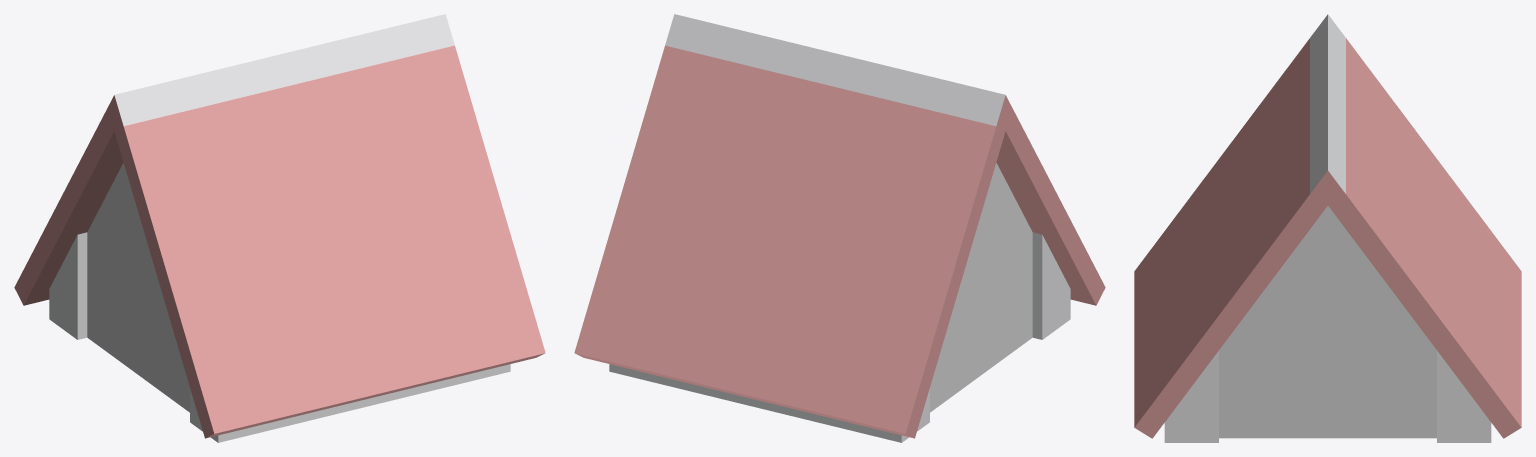
File: Roof_Straight_Red_01.glb
3 renders of one model, left to right at view 1: azimuth 30°, elevation 25°; view 2: azimuth 150°, elevation 25°; view 3: azimuth 270°, elevation 25°, orthographic. The views are drawn at different scales.
Visible parts, largest first — view 1: Mesh1 Roof_Straight_Red Model; view 2: Mesh1 Roof_Straight_Red Model; view 3: Mesh1 Roof_Straight_Red Model.
Part boxes in pixels (left/top/right/bottom): Mesh1 Roof_Straight_Red Model: left=14, top=14, right=545, bottom=442; Mesh1 Roof_Straight_Red Model: left=574, top=14, right=1105, bottom=442; Mesh1 Roof_Straight_Red Model: left=1134, top=14, right=1521, bottom=442.
Bounding box in the file's own units: 3.4 × 2.86 × 3.56.
